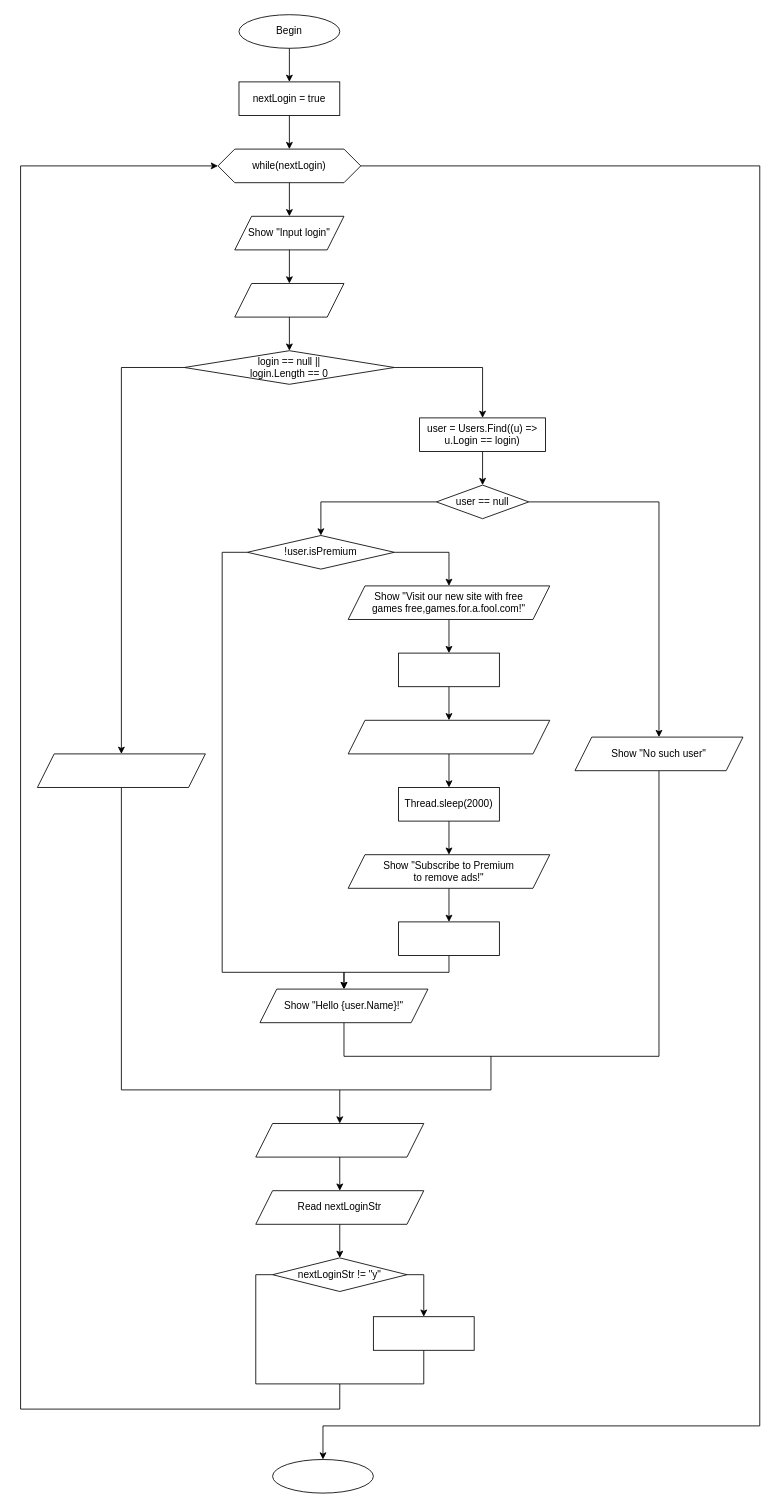
Some shapes in this 781 by 1508 pixel diagram are drawn without their labels. Each missing label, with the box of its shape:
End: (272, 1459, 373, 1493)
nextLogin = false: (373, 1316, 474, 1350)
Read login: (234, 283, 344, 317)
Show "Buy subscription for WeCombo and listen music anytime anywhere!": (347, 719, 550, 754)
Show "Enter new login? (Enter y if yes)": (255, 1123, 424, 1157)
Show "Login cannot be empty": (37, 753, 205, 788)
Thread.sleep(1000): (398, 652, 499, 687)
Thread.sleep(3000): (398, 921, 499, 956)
